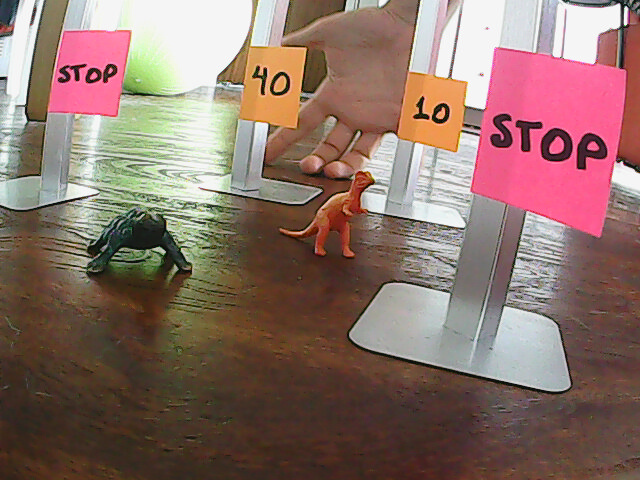10: (405, 80, 456, 144)
40: (246, 49, 297, 125)
dinosaur: (275, 168, 378, 262)
stop: (490, 64, 607, 220), (53, 38, 122, 111)
turtle: (78, 203, 196, 291)
